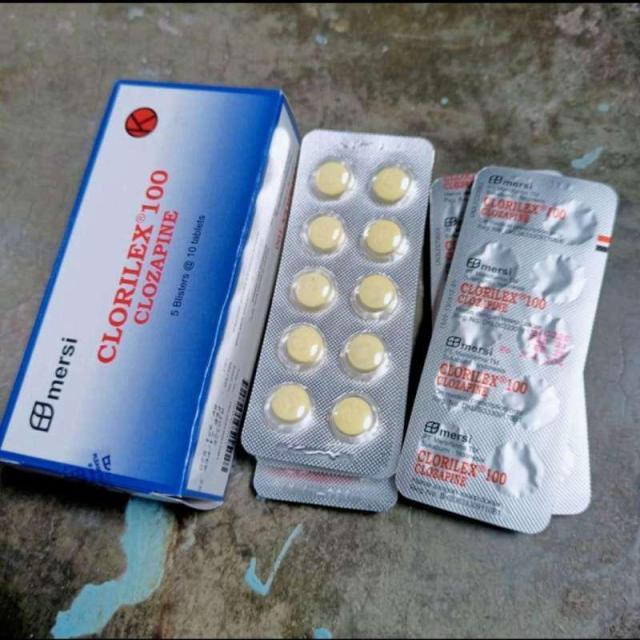drug-name: (90, 167, 170, 366)
